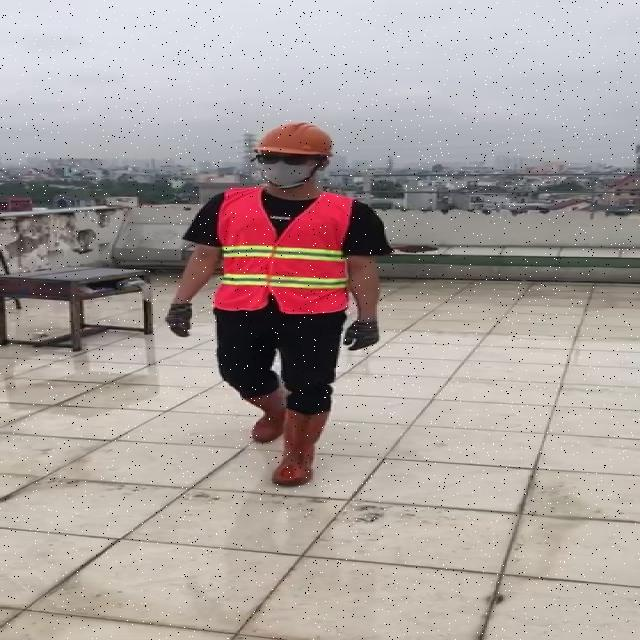Hard_hat: (248, 119, 340, 165)
Vest: (211, 183, 354, 314)
